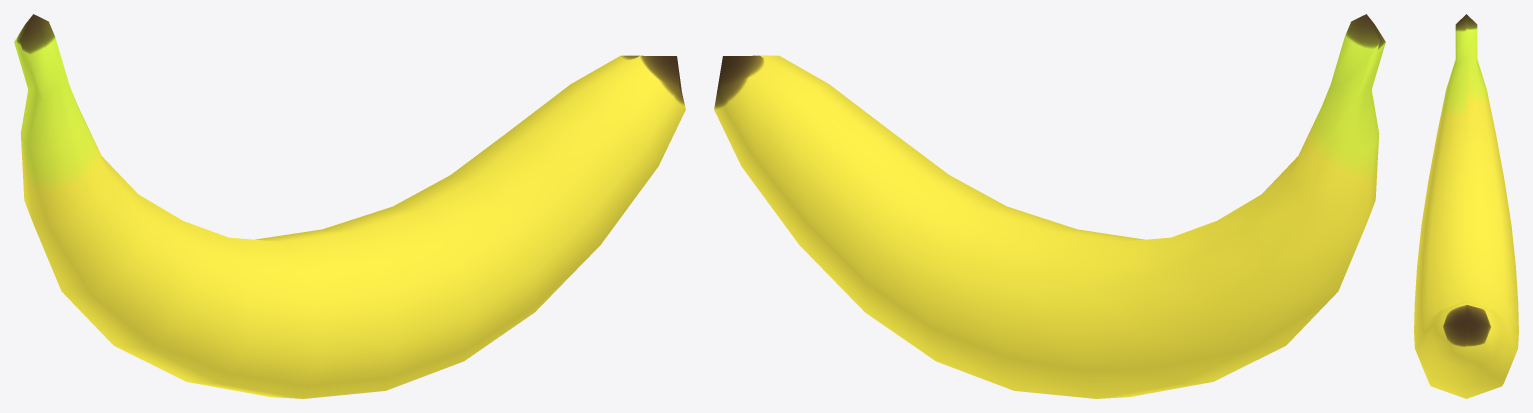
File: banana.glb
3 renders of one model, left to right at view 1: azimuth 30°, elevation 25°; view 2: azimuth 150°, elevation 25°; view 3: azimuth 270°, elevation 25°, orthographic. The views are drawn at different scales.
Parts seen in each view (by area): view 1: Banana; view 2: Banana; view 3: Banana.
Boxes of the visible parts, <box> form: Banana: <box>14,14,685,398</box>; Banana: <box>714,14,1385,398</box>; Banana: <box>1414,14,1518,398</box>.
Size of the model in its own units: 1.04 by 0.679 by 0.238.
Materials: 1 (1 with a texture image).
